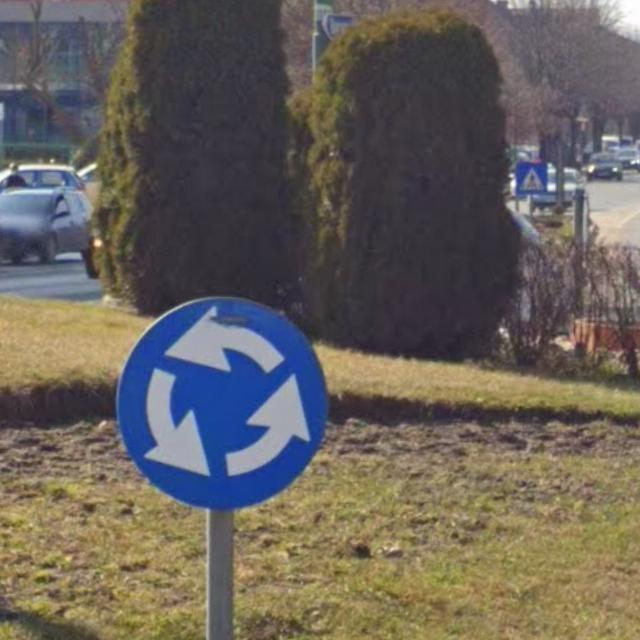info_crosswalk: (516, 164, 549, 194)
